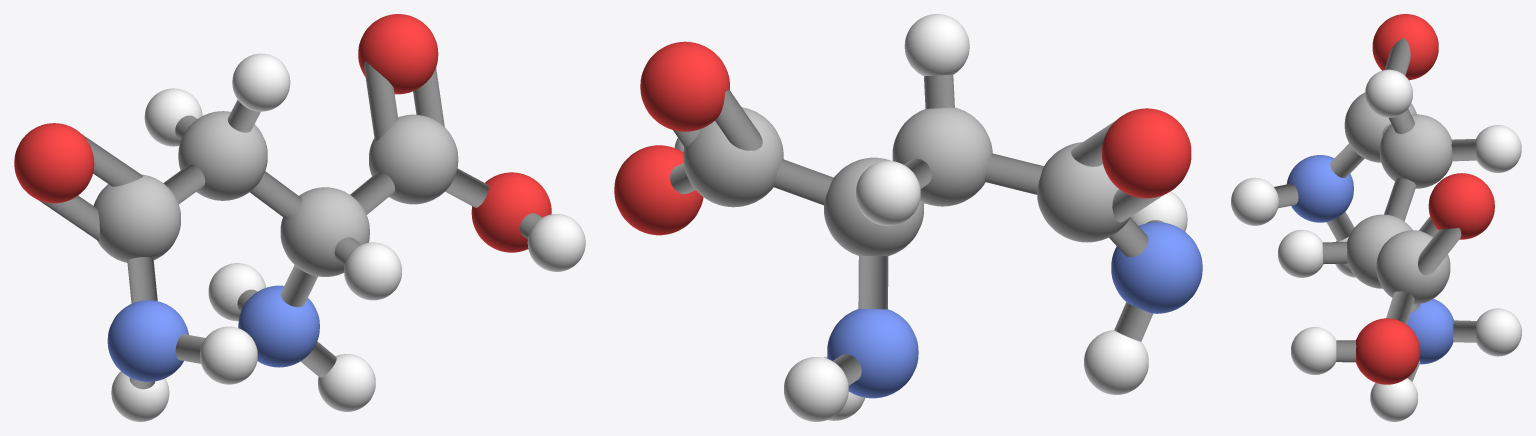
The model's file is asparagine.glb.
3 views of the same model, side by side, from view 1: azimuth 30°, elevation 25°; view 2: azimuth 150°, elevation 25°; view 3: azimuth 270°, elevation 25° (orthographic). The views are drawn at different scales.
Parts seen in each view (by area): view 1: Object_2, Object_5, Object_6, Object_4, Object_3; view 2: Object_2, Object_4, Object_5, Object_6, Object_3; view 3: Object_5, Object_2, Object_4, Object_6, Object_3.
Boxes of the visible parts, <box> form: Object_2: <box>93,111,458,276</box>; Object_5: <box>111,53,585,421</box>; Object_6: <box>38,61,542,389</box>; Object_4: <box>14,14,551,252</box>; Object_3: <box>107,285,319,381</box>; Object_2: <box>683,107,1130,256</box>; Object_4: <box>614,41,1191,235</box>; Object_5: <box>674,14,1187,421</box>; Object_6: <box>670,74,1163,391</box>; Object_3: <box>827,222,1202,398</box>; Object_5: <box>1231,69,1521,421</box>; Object_2: <box>1344,92,1452,304</box>; Object_4: <box>1356,14,1494,384</box>; Object_6: <box>1274,38,1476,381</box>; Object_3: <box>1286,155,1453,364</box>.
Size of the model in its own units: 6.76 by 4.72 by 3.99.
